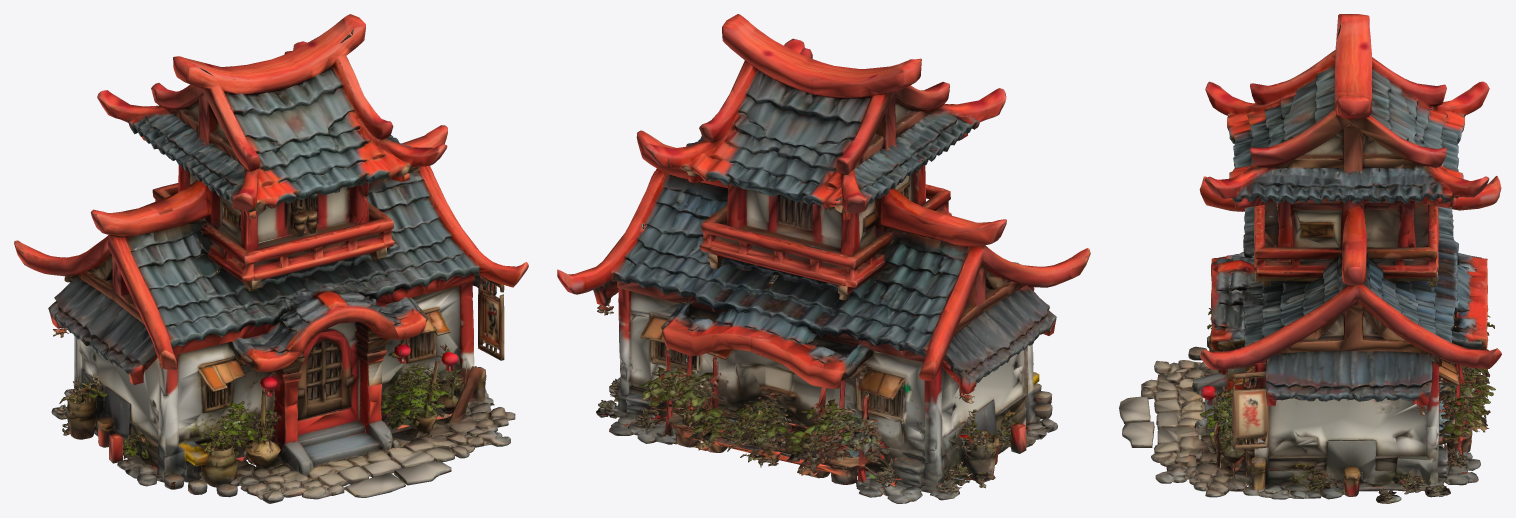
The model's file is bq_teahouse.hd.glb.
3 renders of one model, left to right at view 1: azimuth 30°, elevation 25°; view 2: azimuth 150°, elevation 25°; view 3: azimuth 270°, elevation 25°, orthographic. The views are drawn at different scales.
Size of the model in its own units: 1.9 by 1.79 by 1.72.
1 material, 1 textured.
